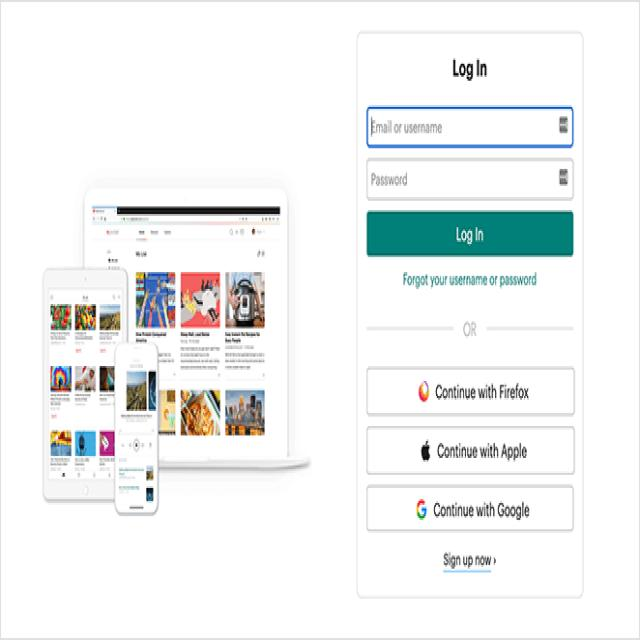Button: (365, 358, 576, 419), (365, 205, 578, 261), (367, 482, 576, 537), (365, 425, 575, 476)
Container: (352, 21, 586, 606)
Image: (22, 173, 326, 530)
Input-field: (367, 152, 576, 206), (364, 98, 574, 150)
Text: (402, 266, 540, 300), (446, 54, 494, 88)
ink: (442, 546, 500, 579)
